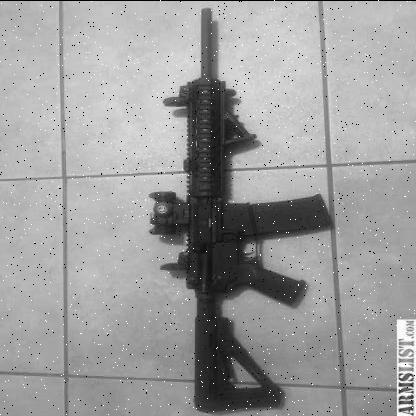rifle: (151, 11, 333, 416)
